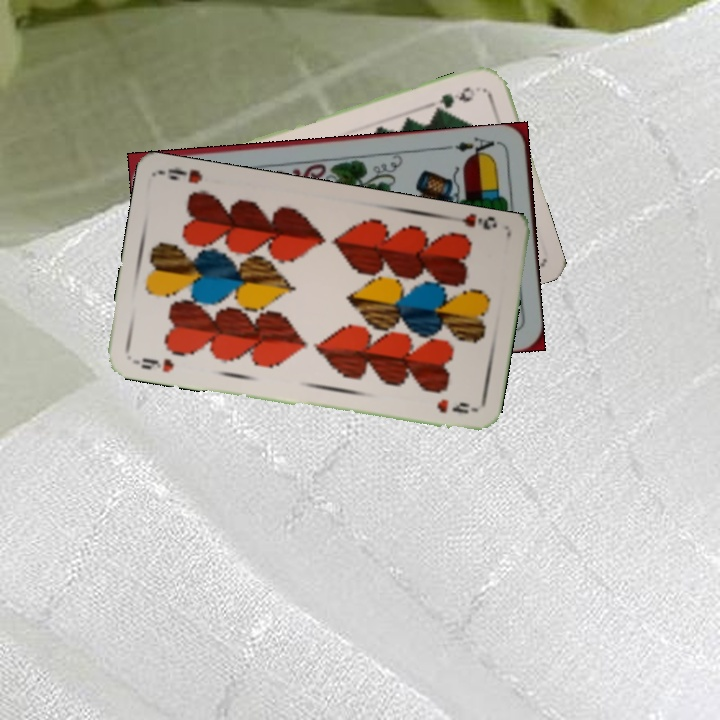EA: (451, 133, 502, 161)
G9: (435, 82, 478, 111)
H9: (458, 212, 500, 233), (137, 354, 176, 375)
